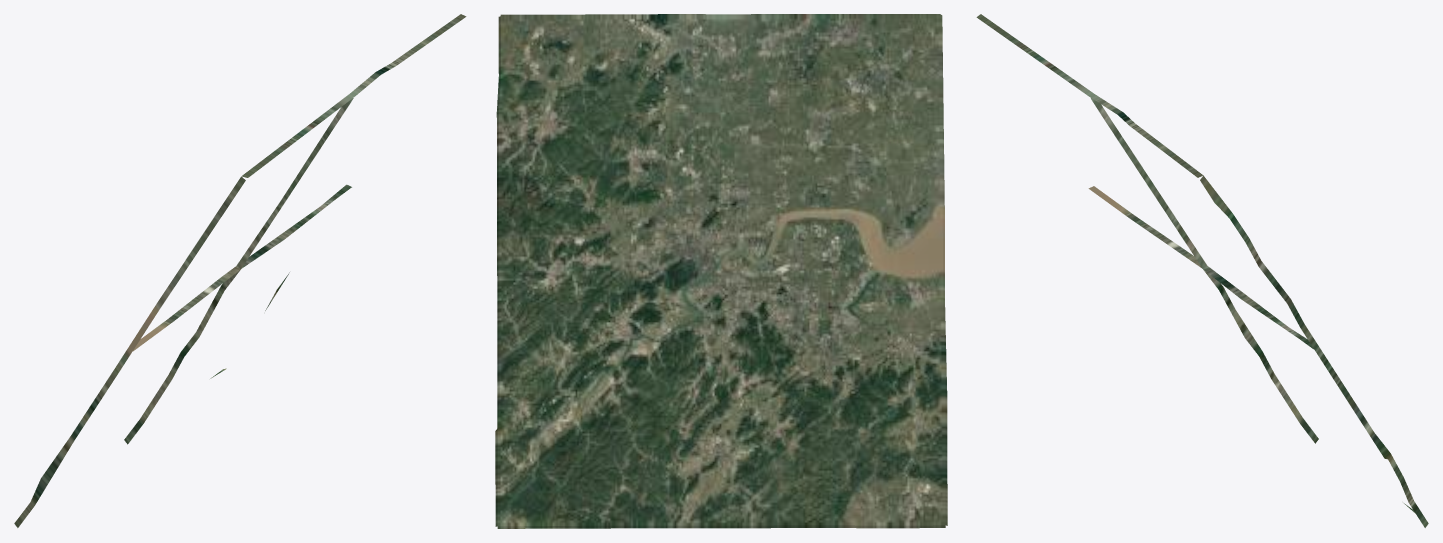
3 views of the same model, side by side, from view 1: azimuth 30°, elevation 25°; view 2: azimuth 150°, elevation 25°; view 3: azimuth 270°, elevation 25° (orthographic).
Size of the model in its own units: 158633 by 137521 by 138241.
Materials: 1 (1 with a texture image).
